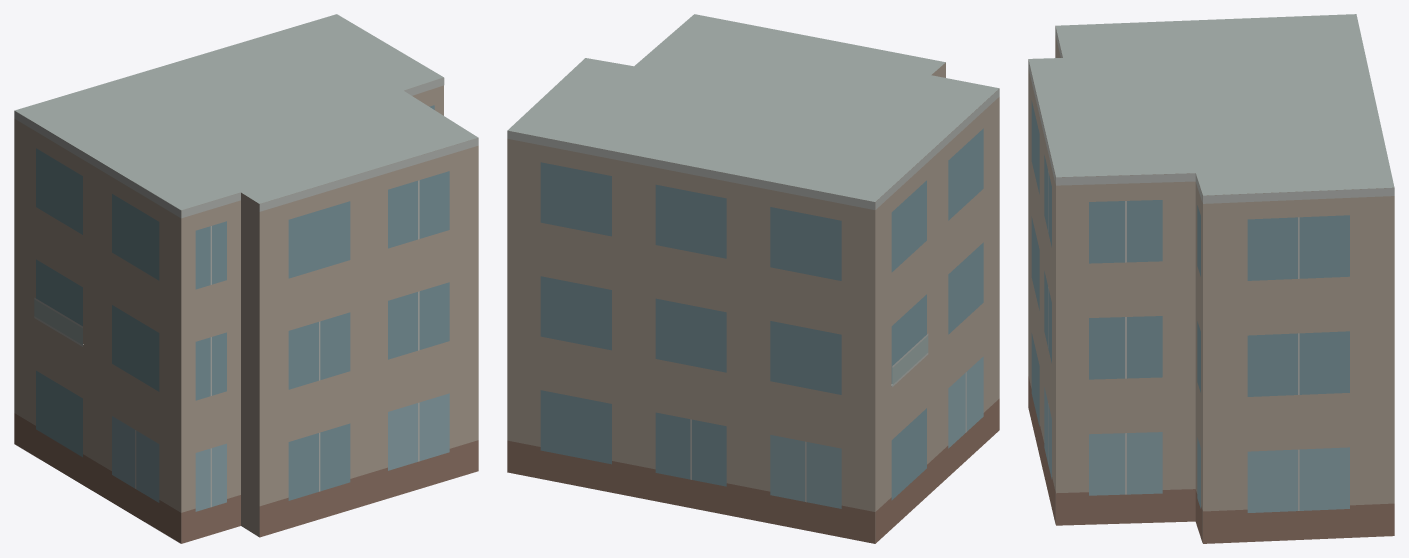
Rendered from survey-upis-32723145.glb.
The picture shows the model from 3 angles, left to right: view 1: azimuth 30°, elevation 25°; view 2: azimuth 150°, elevation 25°; view 3: azimuth 270°, elevation 25°; orthographic projection. The views are drawn at different scales.
Parts seen in each view (by area): view 1: survey-upis-32723145.tmp; view 2: survey-upis-32723145.tmp; view 3: survey-upis-32723145.tmp.
Boxes of the visible parts, box(x1,y1,x2,y2) form: survey-upis-32723145.tmp: box(14, 14, 478, 543); survey-upis-32723145.tmp: box(507, 14, 999, 543); survey-upis-32723145.tmp: box(1028, 14, 1394, 543).
Size of the model in its own units: 11.42 by 10.2 by 9.73.
